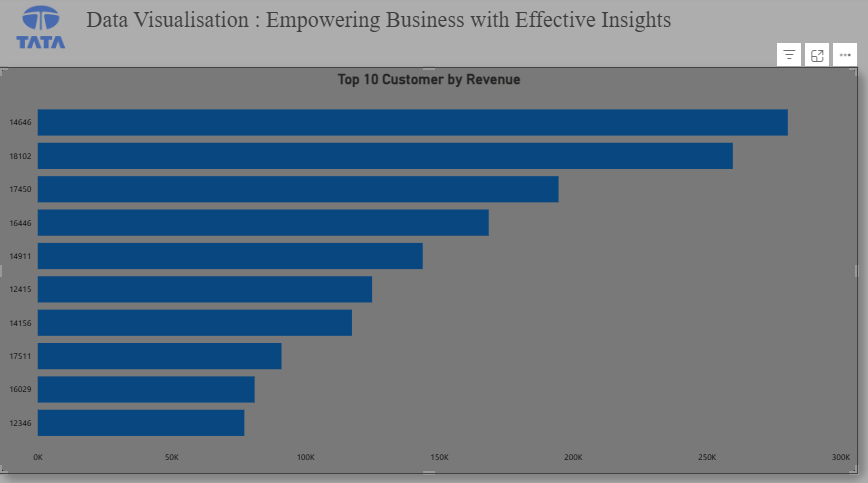

The dashboard page shown, as its layout file describes it:
{"tool":"powerbi","page":{"name":"Question 3","canvas":[1280,720],"ordinal":2},"visuals":[{"type":"image","box":[9.7,9.7,121.6,69.1],"z":0},{"type":"clusteredBarChart","title":"Top 10 Customer by Revenue","fields":{"Y":["Sum(Clean data Set.Revenue)"],"Category":["Clean data Set.CustomerID"]},"box":[9.7,102.1,1242.1,588.4],"z":1000},{"type":"textbox","box":[131.3,9.7,1015.4,85.6],"z":2000}]}

Visuals, with their boxes on the page's 1280x720 design canvas (x1, y1, x2, y2). These are canvas units, not pixel positions in the 868x483 screenshot, which may show the page scaled, cropped or inside an application window:
image: [10,10,131,79]
"Top 10 Customer by Revenue" clusteredBarChart: [10,102,1252,690]
textbox: [131,10,1147,95]
